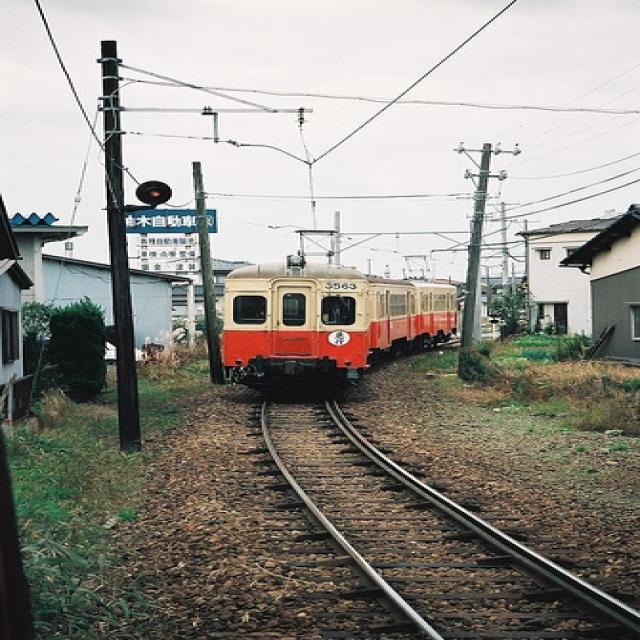train: (222, 251, 460, 390)
